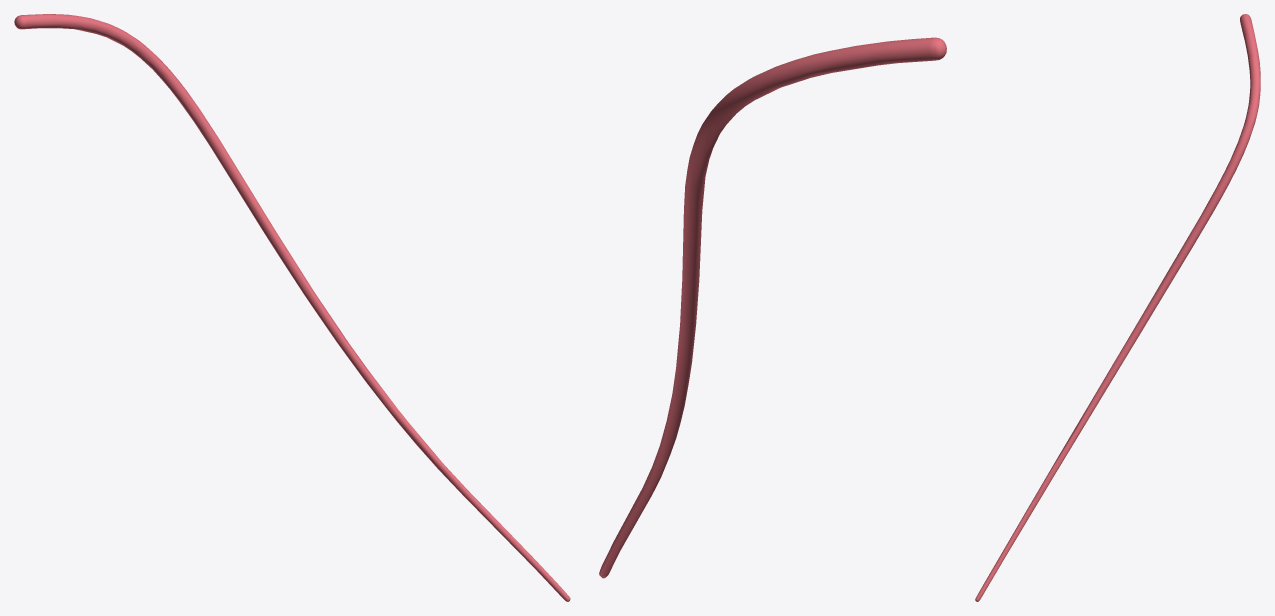
Rendered from fma22907_fj2339.glb.
The picture shows the model from 3 angles, left to right: view 1: azimuth 30°, elevation 25°; view 2: azimuth 150°, elevation 25°; view 3: azimuth 270°, elevation 25°; orthographic projection. The views are drawn at different scales.
Parts seen in each view (by area): view 1: FMA22907_FJ2339; view 2: FMA22907_FJ2339; view 3: FMA22907_FJ2339.
Part boxes in pixels (box(x1,y1,x2,y2)): FMA22907_FJ2339: box(14, 14, 570, 601); FMA22907_FJ2339: box(599, 37, 946, 578); FMA22907_FJ2339: box(975, 14, 1260, 601).
Bounding box in the file's own units: 0.042 × 0.0577 × 0.0339.
